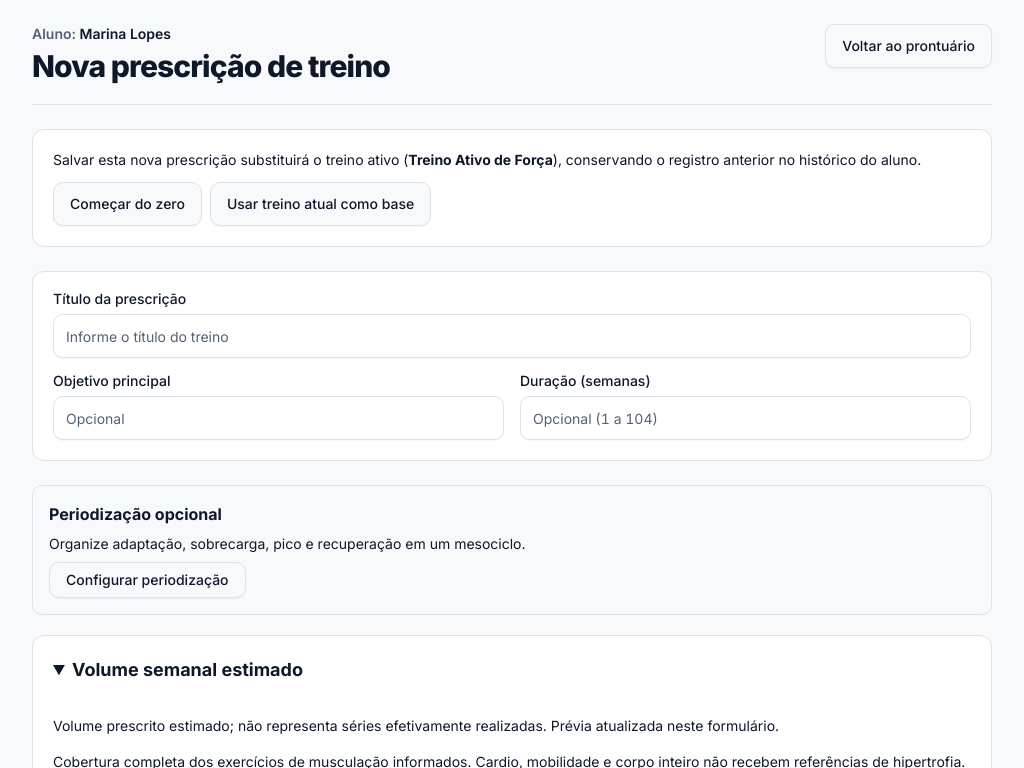
WorkoutEditor › prevents_double_submit
Click the button "Usar treino atual como base" at {"x": 321, "y": 204}, box left=210, top=182, right=431, bottom=226
(page scrolled)
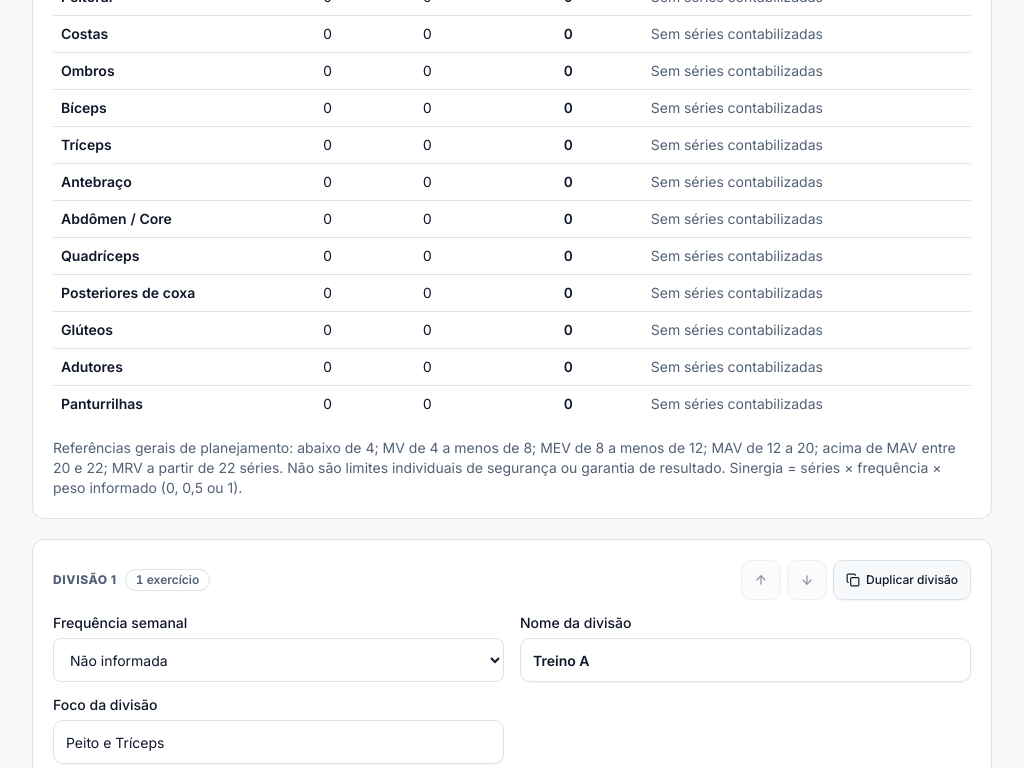
Submit the form named "Salvar prescrição"
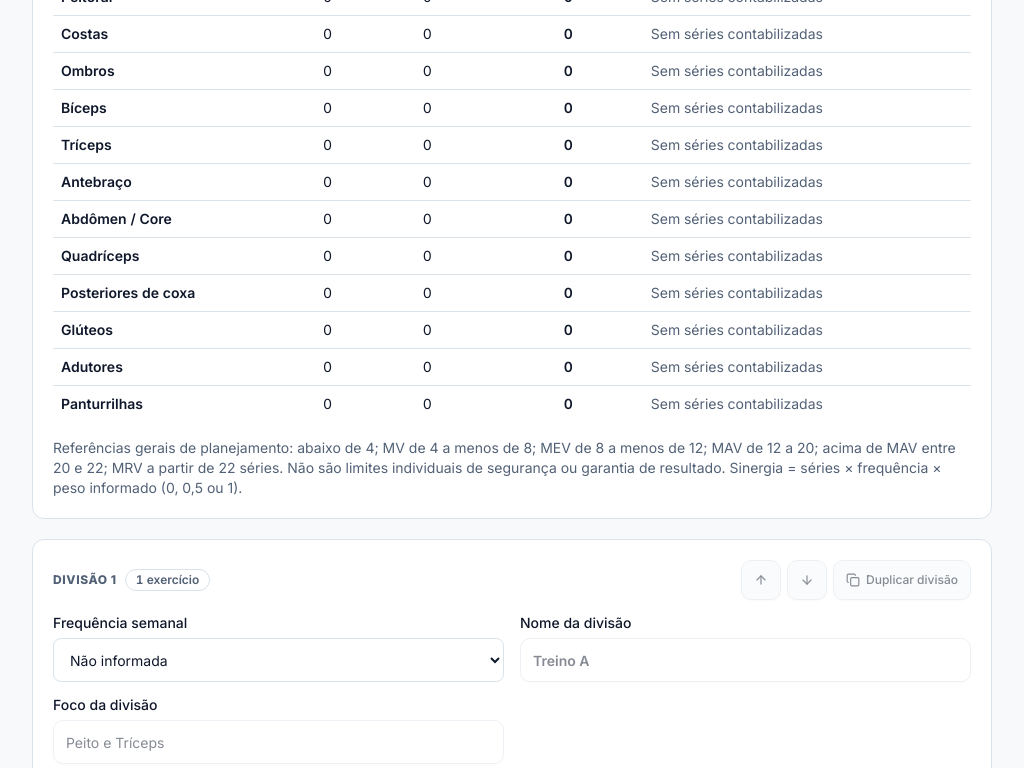
Submit the form named "Salvar prescrição"
(page scrolled)
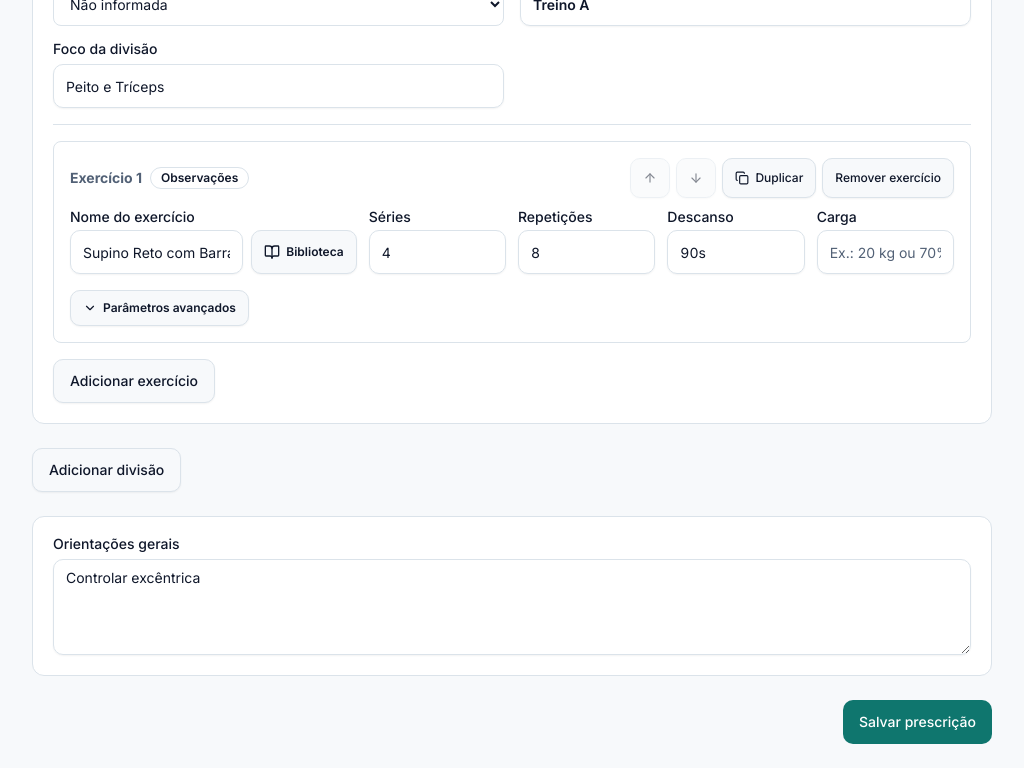
Expected: the button "Salvar prescrição" is enabled, left=843, top=700, right=992, bottom=744
